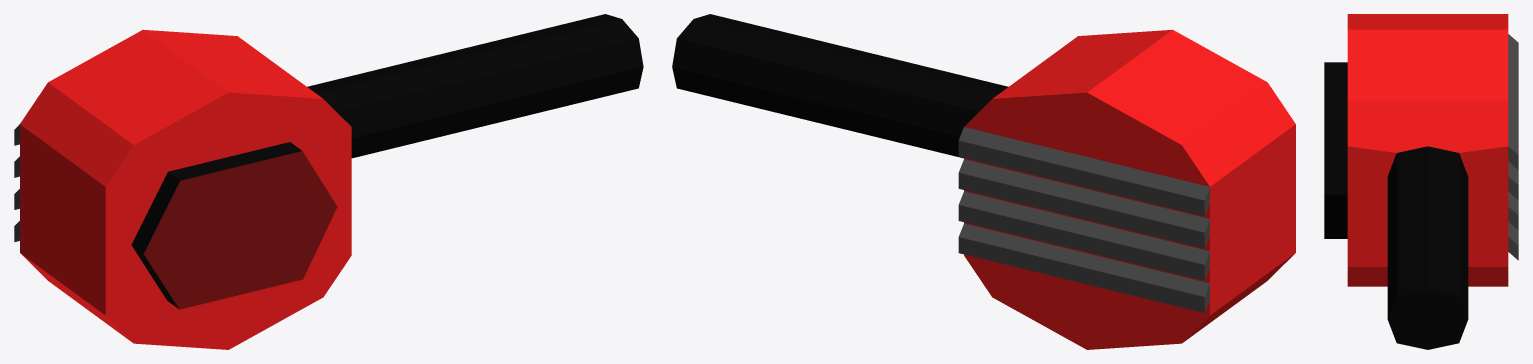
File: SM_Blower_Model (2).fbx
3 views of the same model, side by side, from view 1: azimuth 30°, elevation 25°; view 2: azimuth 150°, elevation 25°; view 3: azimuth 270°, elevation 25° (orthographic). The views are drawn at different scales.
Parts seen in each view (by area): view 1: Cube; view 2: Cube; view 3: Cube.
Part boxes in pixels (box(x1,y1,x2,y2)): Cube: box(14, 14, 643, 349); Cube: box(672, 14, 1295, 349); Cube: box(1324, 14, 1518, 349).
Bounding box in the file's own units: 455 × 200 × 146.
